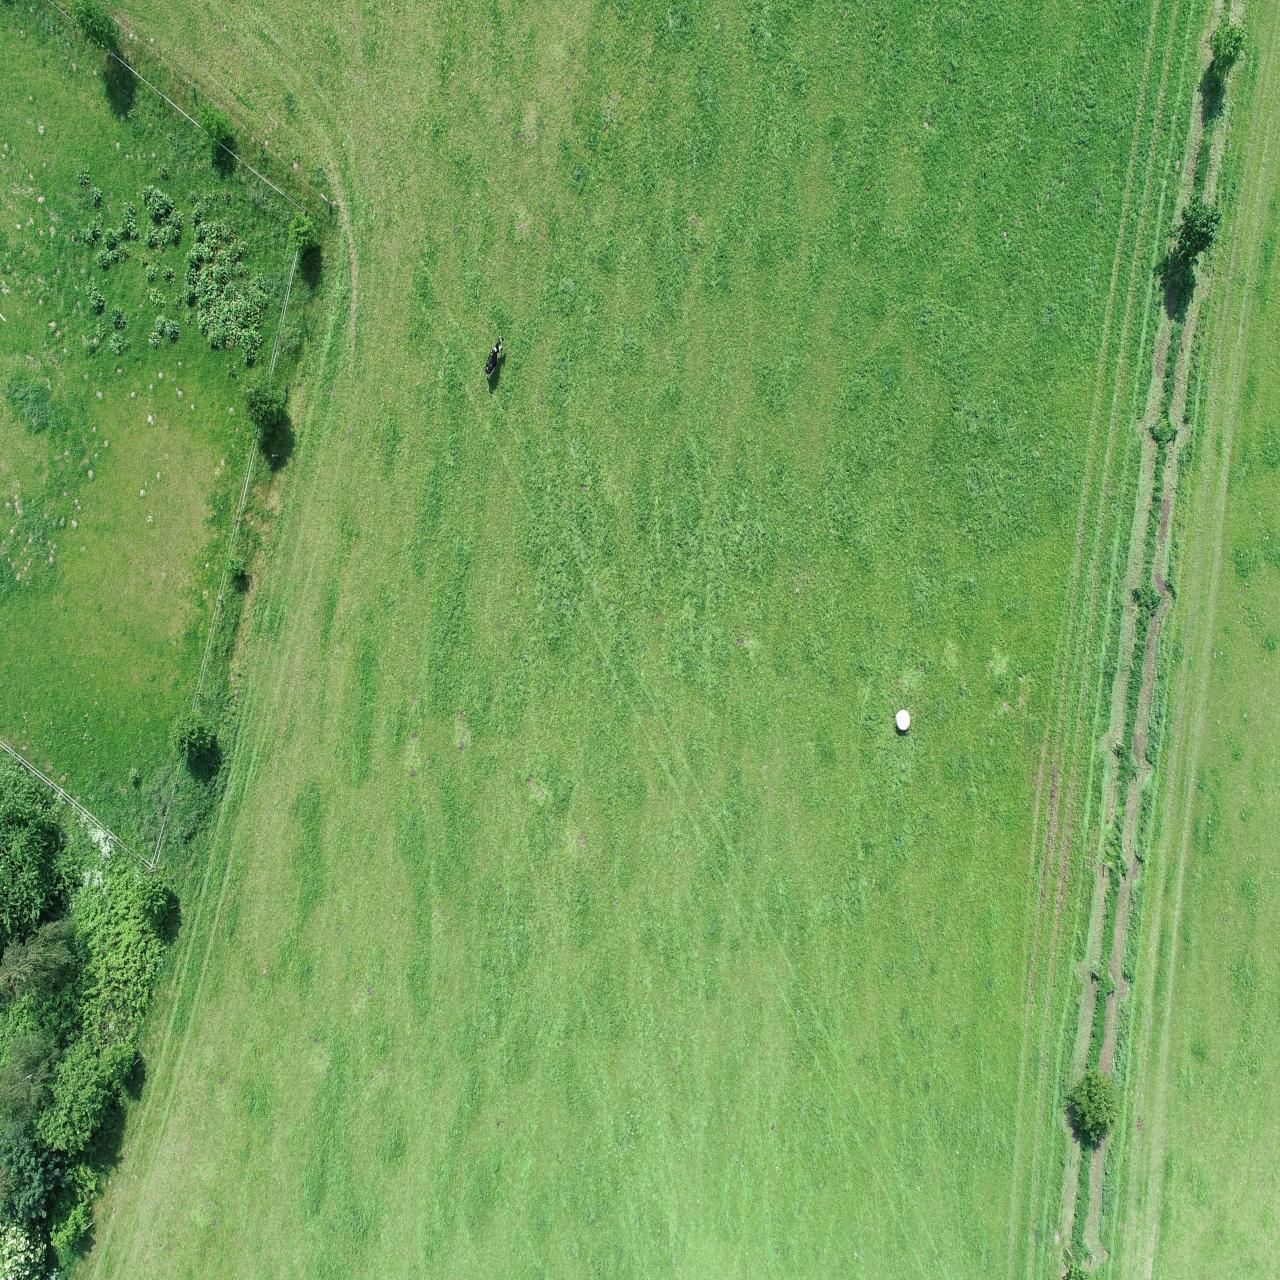cow: (482, 332, 508, 387)
